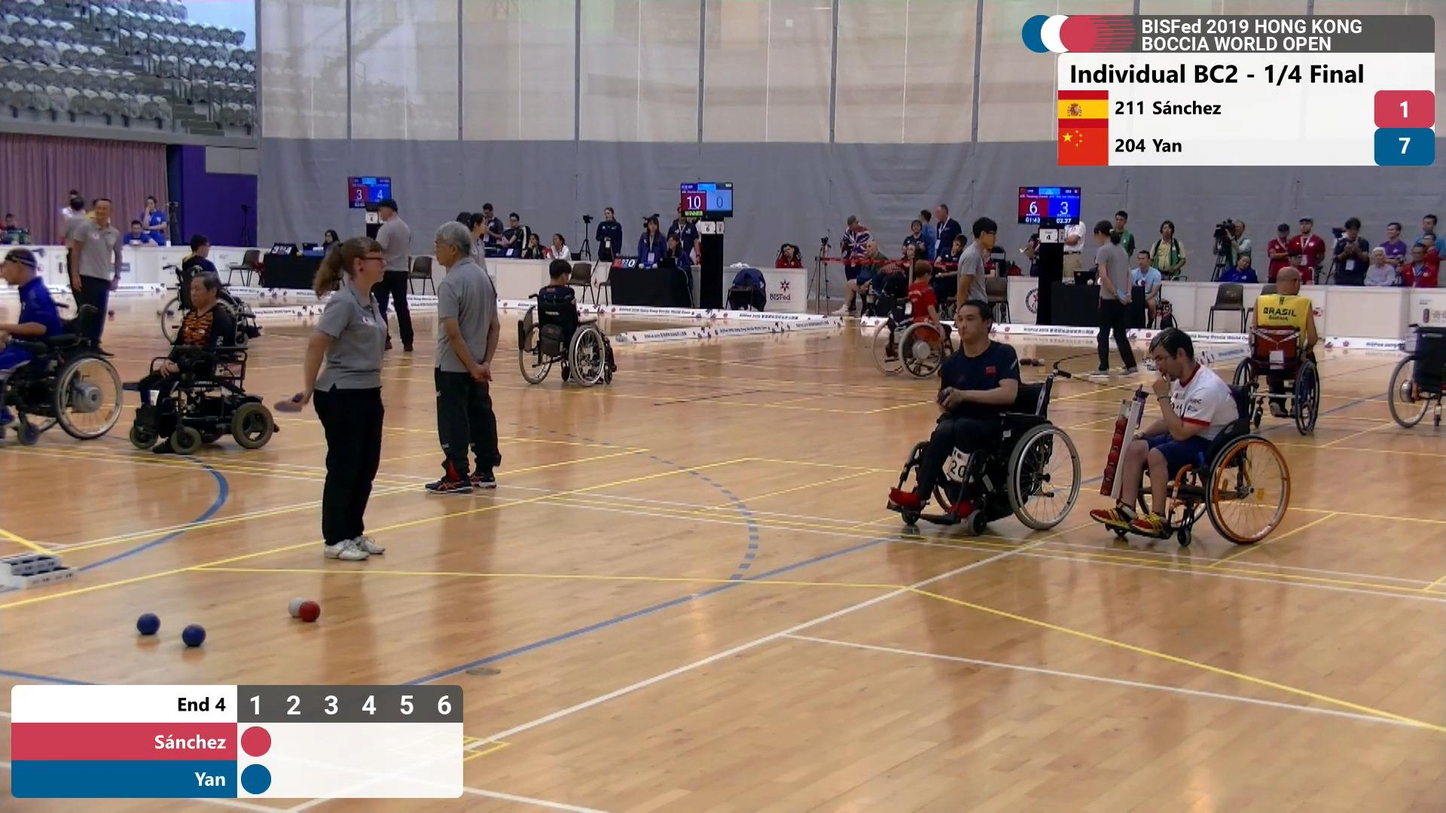blue_ball: (181, 621, 208, 650), (136, 611, 162, 639)
red_ball: (300, 597, 322, 624)
